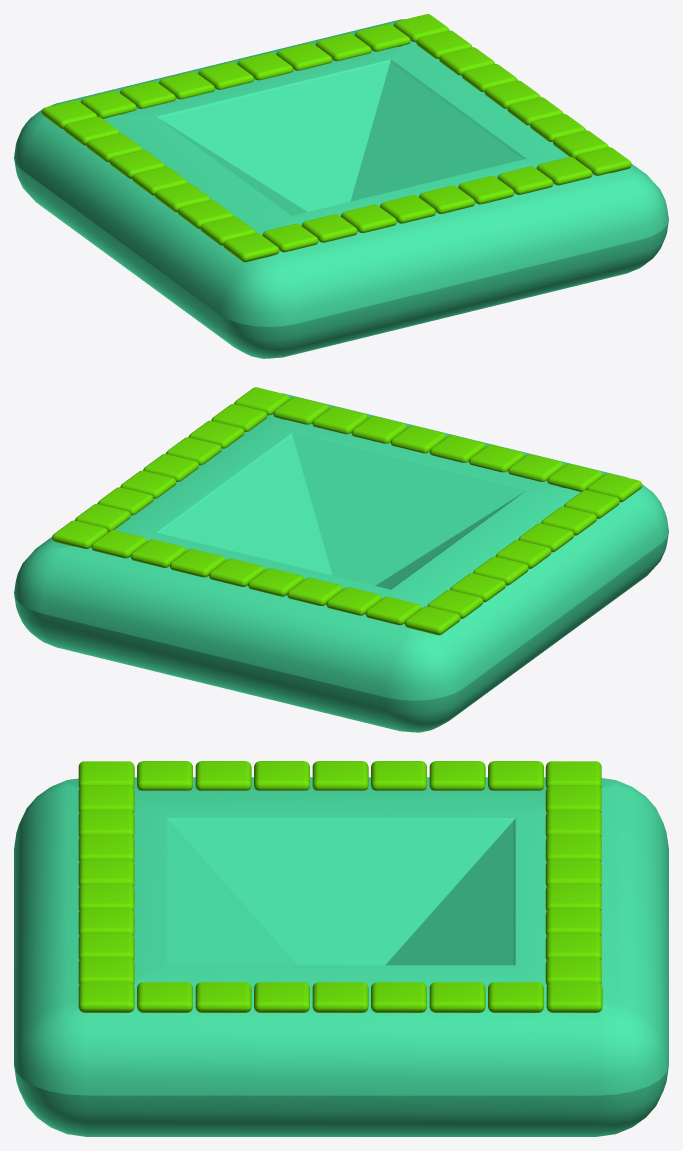
The model's file is DÜZolantahta.fbx.
3 renders of one model, top to bottom at view 1: azimuth 30°, elevation 25°; view 2: azimuth 150°, elevation 25°; view 3: azimuth 270°, elevation 25°, orthographic. The views are drawn at different scales.
Parts seen in each view (by area): view 1: Cube.034, Plane, Cube.009, Cube, Cube.008, Cube.002, Cube.005, Cube.007, Cube.001, Cube.004, Cube.003, Cube.006 (+24 smaller); view 2: Cube.034, Plane, Cube.019, Cube.017, Cube.021, Cube.020, Cube.023, Cube.027, Cube.026, Cube.022, Cube.024, Cube.025 (+24 smaller); view 3: Cube.034, Plane, Cube.015, Cube.017, Cube.013, Cube, Cube.011, Cube.010, Cube.012, Cube.014, Cube.016, Cube.028 (+24 smaller).
Part boxes in pixels (bbox=[...]): Cube.034: bbox=[14, 19, 668, 358]; Plane: bbox=[160, 62, 522, 215]; Cube.009: bbox=[223, 233, 279, 262]; Cube: bbox=[575, 147, 631, 175]; Cube.008: bbox=[262, 223, 318, 252]; Cube.002: bbox=[497, 166, 553, 194]; Cube.005: bbox=[380, 195, 435, 223]; Cube.007: bbox=[301, 214, 357, 242]; Cube.001: bbox=[536, 157, 592, 185]; Cube.004: bbox=[419, 185, 474, 213]; Cube.003: bbox=[458, 176, 514, 204]; Cube.006: bbox=[341, 204, 396, 232]; Cube.034: bbox=[14, 393, 668, 732]; Plane: bbox=[160, 436, 522, 588]; Cube.019: bbox=[404, 606, 460, 635]; Cube.017: bbox=[52, 520, 107, 548]; Cube.021: bbox=[326, 587, 382, 615]; Cube.020: bbox=[365, 596, 421, 625]; Cube.023: bbox=[248, 568, 303, 596]; Cube.027: bbox=[91, 530, 147, 558]; Cube.026: bbox=[130, 539, 186, 567]; Cube.022: bbox=[287, 577, 343, 605]; Cube.024: bbox=[209, 558, 264, 586]; Cube.025: bbox=[170, 549, 225, 577]; Cube.034: bbox=[14, 777, 668, 1136]; Plane: bbox=[170, 821, 512, 964]; Cube.015: bbox=[429, 982, 485, 1012]; Cube.017: bbox=[546, 982, 602, 1012]; Cube.013: bbox=[312, 982, 368, 1012]; Cube: bbox=[78, 982, 134, 1012]; Cube.011: bbox=[195, 982, 251, 1012]; Cube.010: bbox=[137, 982, 192, 1012]; Cube.012: bbox=[254, 982, 309, 1012]; Cube.014: bbox=[371, 982, 426, 1012]; Cube.016: bbox=[488, 982, 543, 1012]; Cube.028: bbox=[429, 761, 485, 790].
Size of the model in its own units: 1704 by 395 by 1704.
